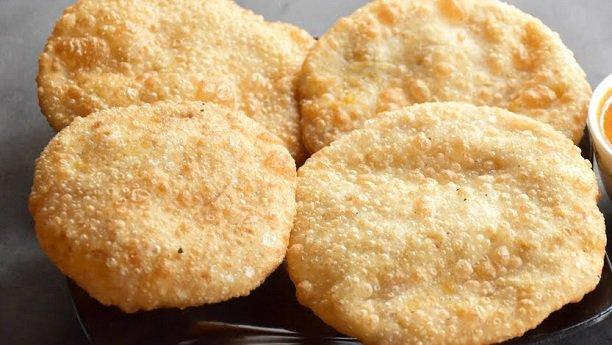Moong Dal Poori: (36, 1, 609, 294)
